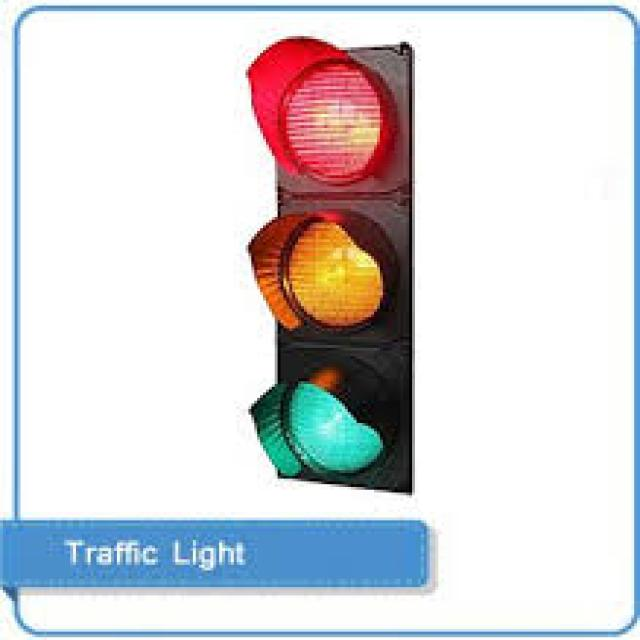Hijau: (290, 381, 388, 481)
Kuning: (282, 218, 386, 326)
Merah: (273, 62, 384, 182)
